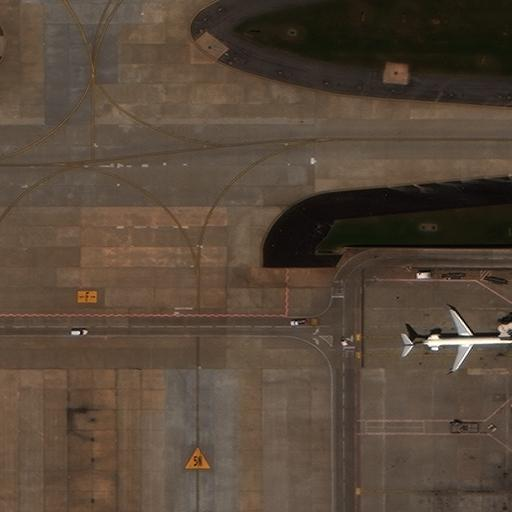Medium Civil Transport: (400, 305, 511, 371)
